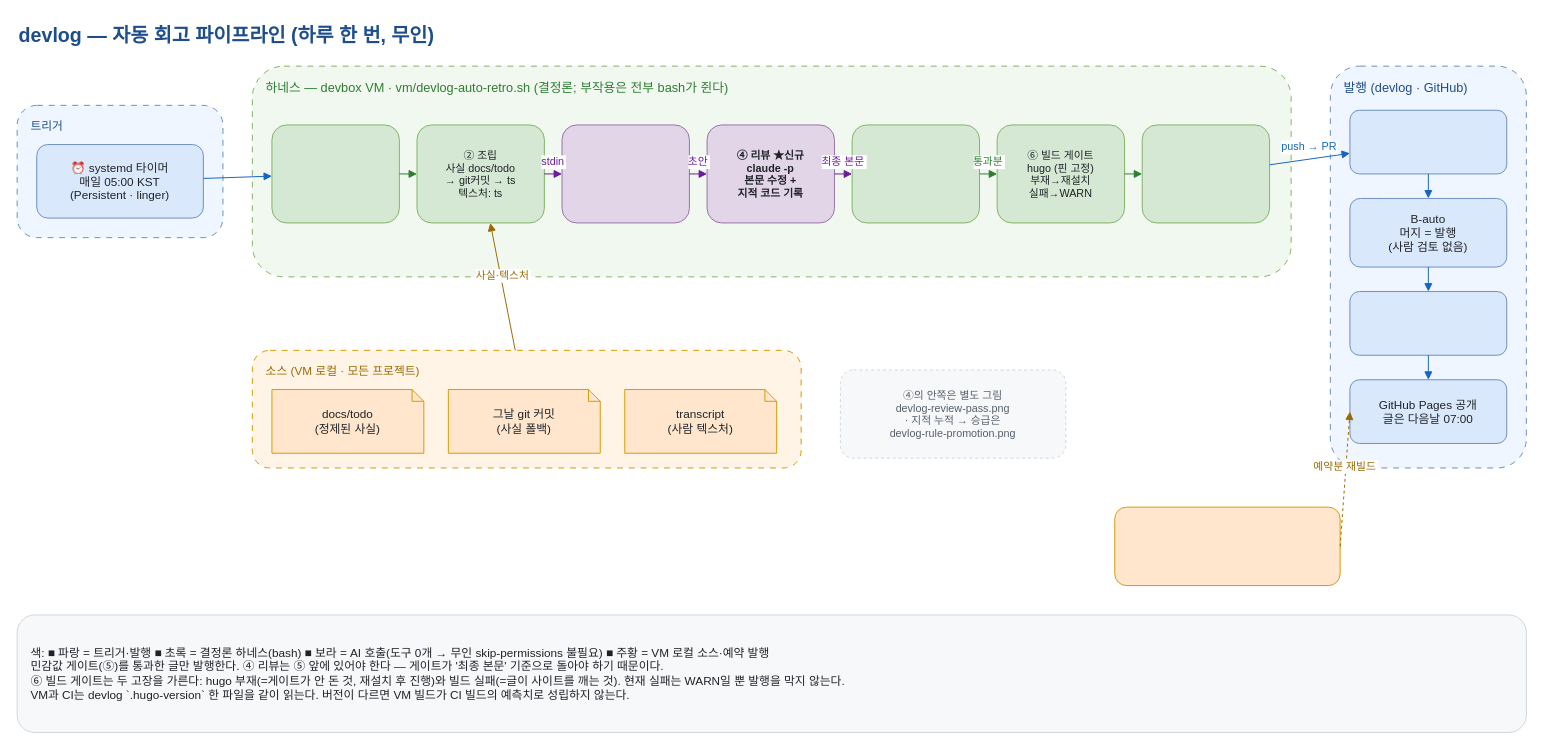
Some shapes in this 1544 by 750 pixel diagram are drawn without their labels. The shapes that lost their labels are listed below. From the top down, each one's centre as x and y in pixels, then its label:
At [1428,141]: "devlog PR auto-devlog/W".
At [335,173]: "① 발견 그날 docs/todo ∪ ts 활동 (실클론 repo만)".
At [625,173]: "③ 생성 claude -p 도구 0개 → 초안".
At [915,173]: "⑤ 민감값 게이트 IP 정규식 · denylist 백틱값 누출분 폐기".
At [1205,173]: "⑦ 승급 + 커밋 writing-rules.md 갱신 후 함께 커밋 · push".
At [1428,323]: "Actions: hugo 빌드 (.hugo-version 핀)".
At [1227,546]: "일일 cron 07:05 KST 미래 시각 글을 시각이 지난 뒤 재빌드해 공개한다".
